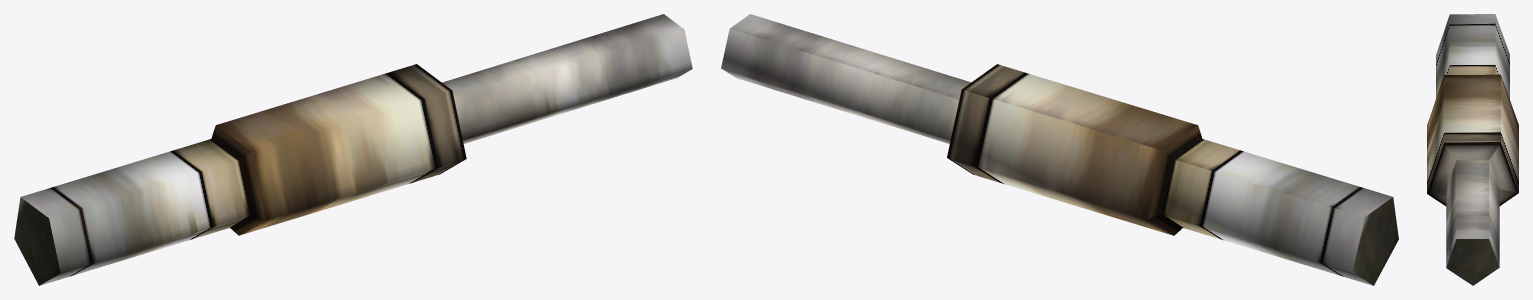
Rendered from USA - Armor - Paladin Tank - Damage State 3 - avPaladin_d3.glb.
The picture shows the model from 3 angles, left to right: view 1: azimuth 30°, elevation 25°; view 2: azimuth 150°, elevation 25°; view 3: azimuth 270°, elevation 25°; orthographic projection. The views are drawn at different scales.
Parts seen in each view (by area): view 1: AVPALADIN_D3; view 2: AVPALADIN_D3; view 3: AVPALADIN_D3.
Part boxes in pixels (x1,y1,x2,y2): AVPALADIN_D3: [14, 14, 692, 285]; AVPALADIN_D3: [721, 14, 1398, 285]; AVPALADIN_D3: [1427, 14, 1518, 285].
Bounding box in the file's own units: 19.89 × 3.34 × 3.08.
1 material, 1 textured.
